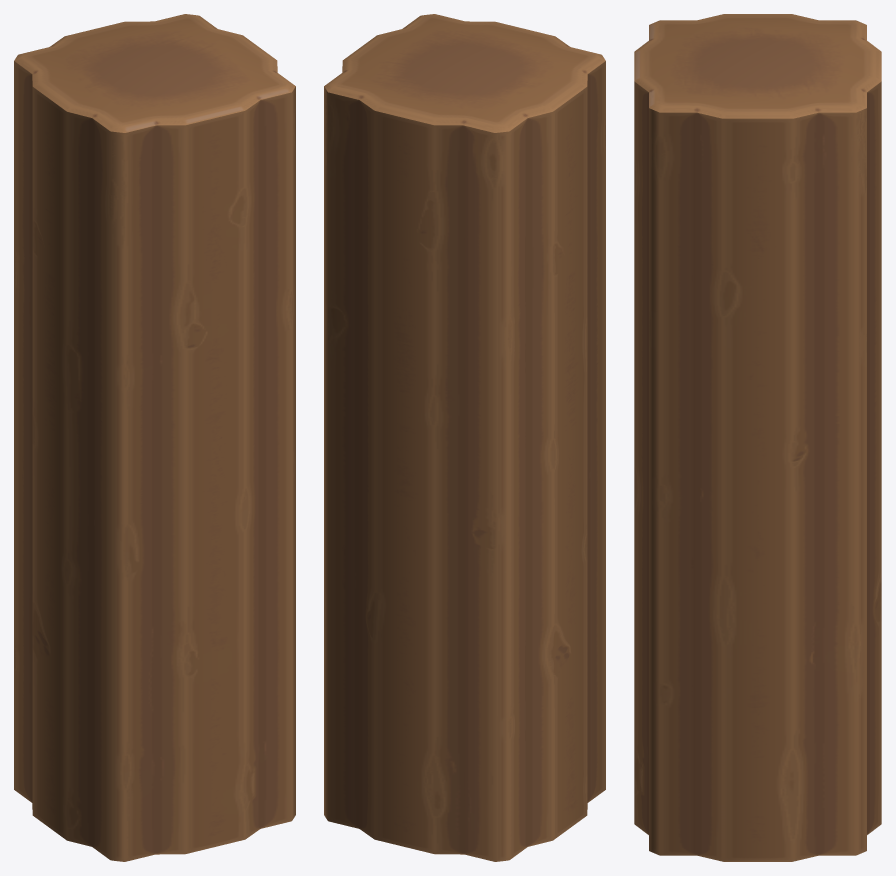
Rendered from ARC0510086.fbx.
3 views of the same model, side by side, from view 1: azimuth 30°, elevation 25°; view 2: azimuth 150°, elevation 25°; view 3: azimuth 270°, elevation 25° (orthographic).
Parts seen in each view (by area): view 1: smARC0510086; view 2: smARC0510086; view 3: smARC0510086.
Part boxes in pixels (bbox=[...]): smARC0510086: bbox=[14, 14, 295, 861]; smARC0510086: bbox=[324, 14, 605, 861]; smARC0510086: bbox=[634, 14, 881, 861].
Size of the model in its own units: 44.91 by 150 by 44.91.
Materials: 1 (1 with a texture image).
